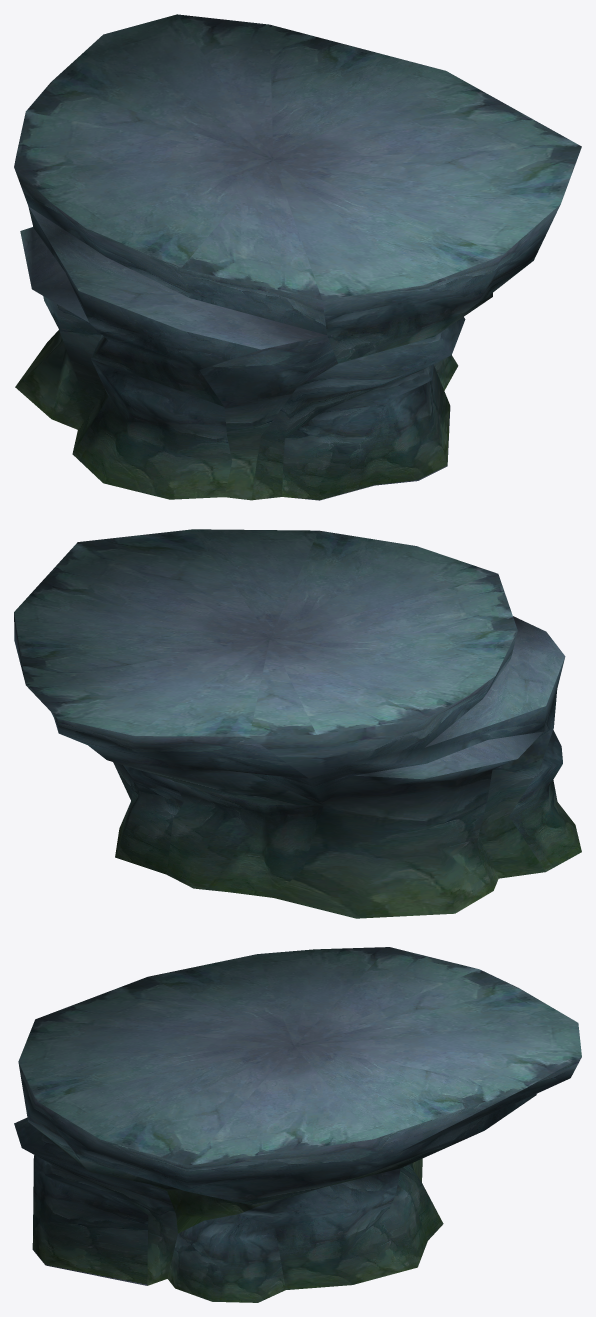
Rendered from environment_stone_seahaidi_002_a.FBX.
The picture shows the model from 3 angles, top to bottom: view 1: azimuth 30°, elevation 25°; view 2: azimuth 150°, elevation 25°; view 3: azimuth 270°, elevation 25°; orthographic projection. The views are drawn at different scales.
Parts seen in each view (by area): view 1: environment_stone_seahaidi_002_a; view 2: environment_stone_seahaidi_002_a; view 3: environment_stone_seahaidi_002_a.
Boxes of the visible parts, bbox=[...] form: environment_stone_seahaidi_002_a: bbox=[14, 14, 581, 500]; environment_stone_seahaidi_002_a: bbox=[14, 529, 581, 918]; environment_stone_seahaidi_002_a: bbox=[14, 947, 581, 1302].
Size of the model in its own units: 1587 by 718 by 1695.
1 material, 1 textured.
